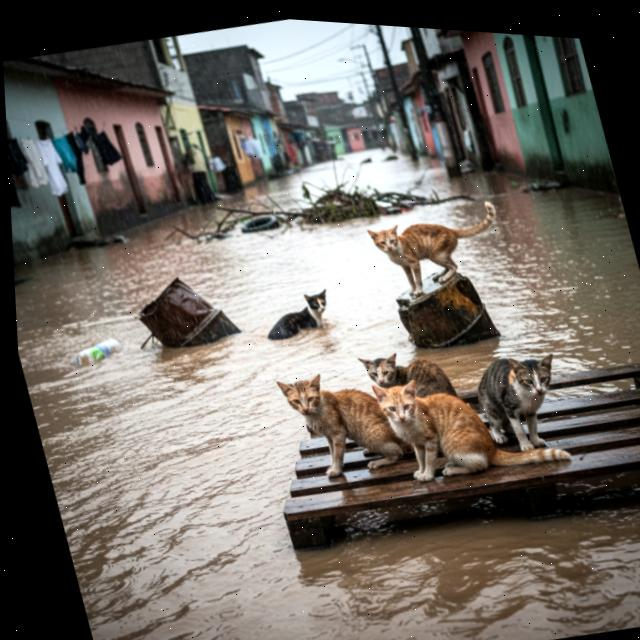cat: (367, 346, 580, 506), (262, 354, 407, 503), (355, 187, 519, 306), (446, 335, 577, 464), (351, 332, 459, 415), (254, 280, 345, 355)
